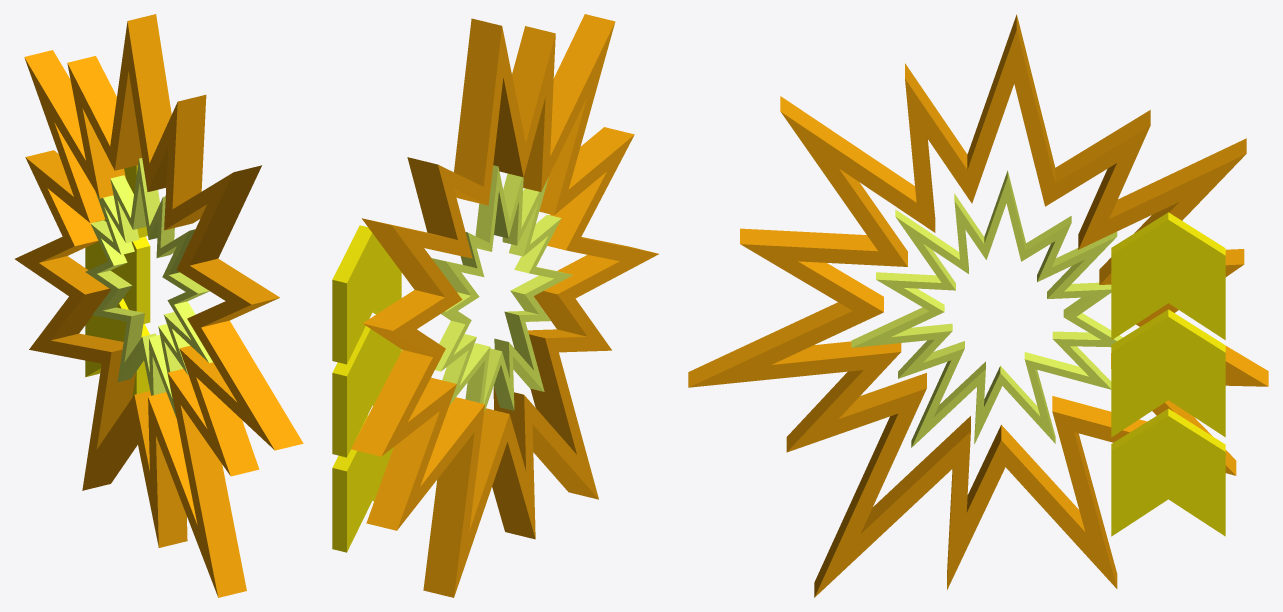
File: damage power up.fbx
3 renders of one model, left to right at view 1: azimuth 30°, elevation 25°; view 2: azimuth 150°, elevation 25°; view 3: azimuth 270°, elevation 25°, orthographic. The views are drawn at different scales.
Visible parts, largest first — view 1: Vlak.001; view 2: Vlak.001; view 3: Vlak.001.
Boxes of the visible parts, left/top/right/bottom form: Vlak.001: left=15, top=14, right=303, bottom=597; Vlak.001: left=332, top=14, right=658, bottom=597; Vlak.001: left=688, top=14, right=1268, bottom=597.
Size of the model in its own units: 23.67 by 177 by 164.
